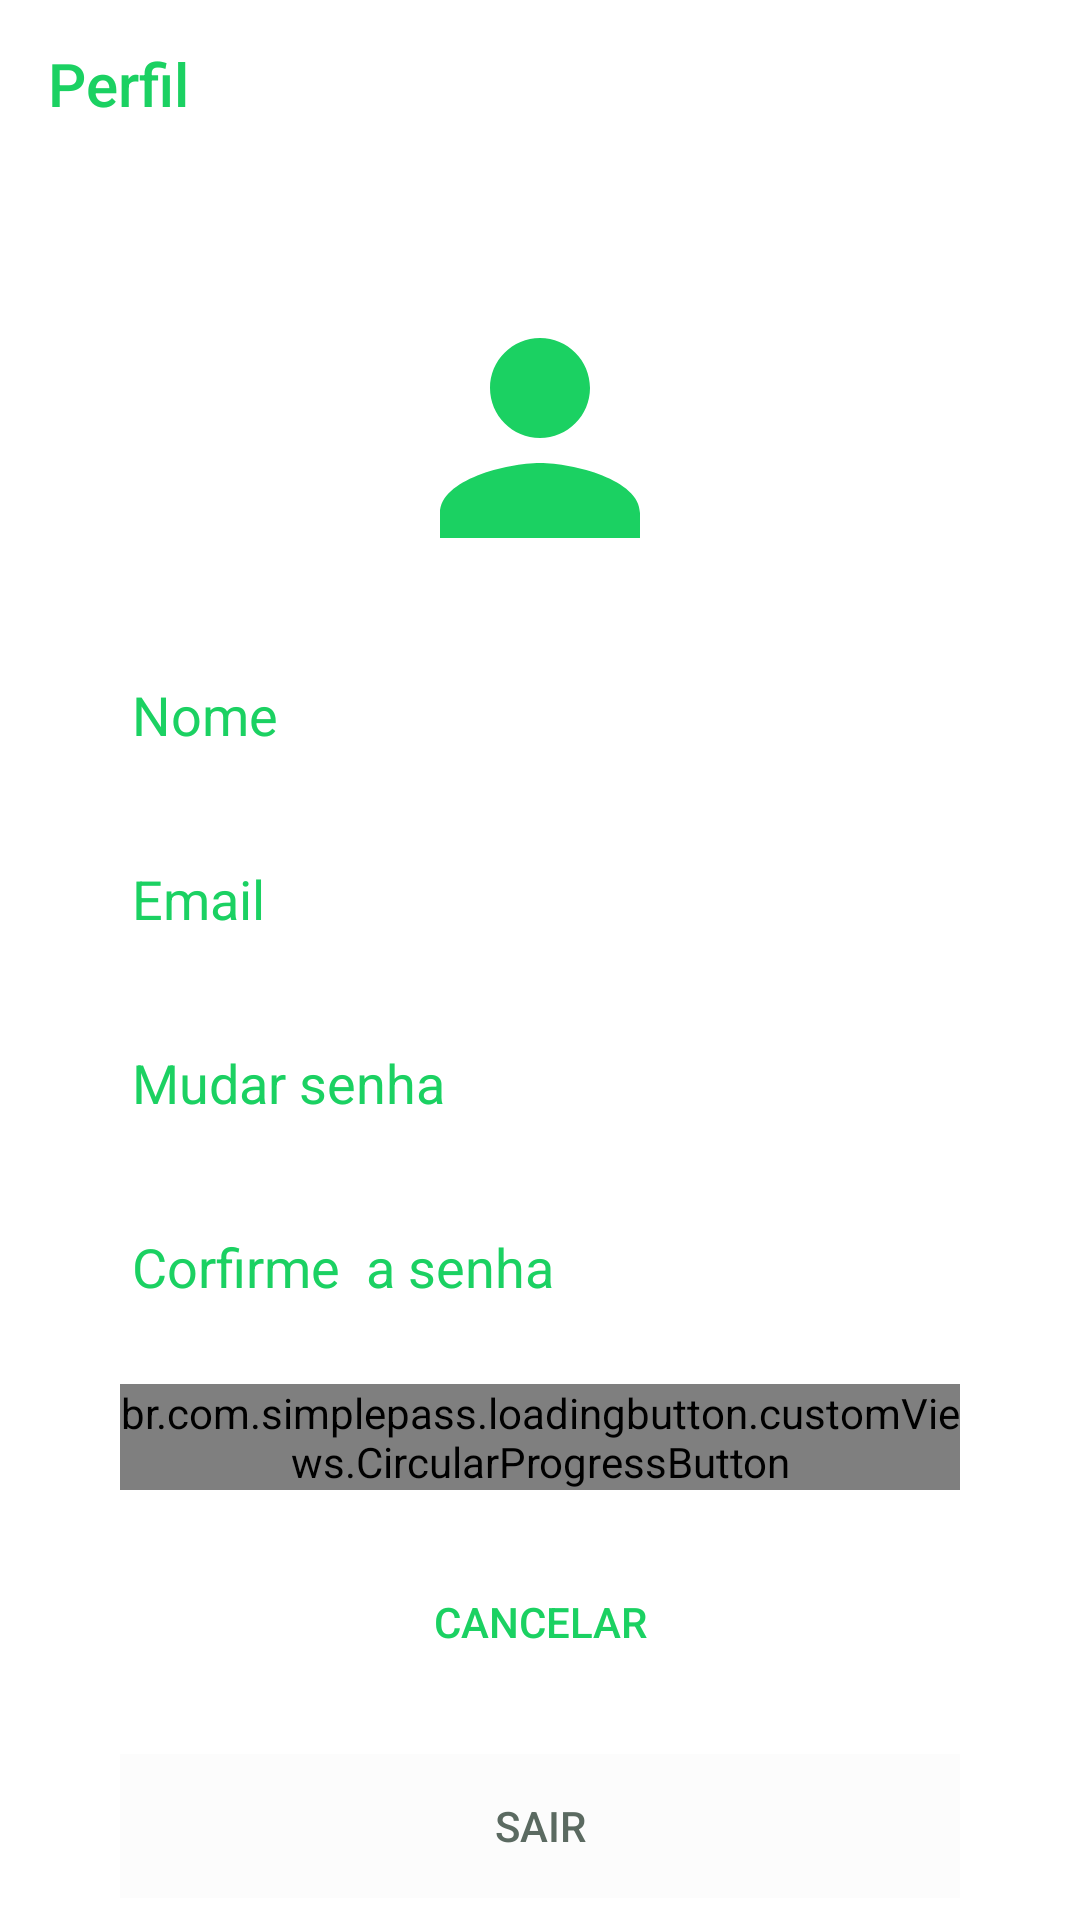

Named icons in this screenshot (1080 x 1920) and their centers, [x,y]:
person: [540,438]
